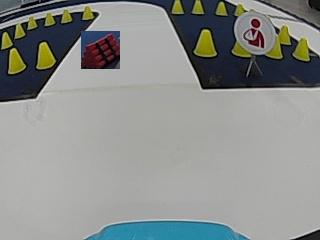cone: (193, 29, 217, 57), (36, 42, 56, 69), (8, 48, 25, 73), (292, 37, 309, 61), (266, 35, 282, 59), (279, 24, 290, 44), (1, 31, 13, 48), (171, 1, 184, 14), (81, 6, 93, 20), (15, 23, 26, 38), (192, 1, 204, 14), (215, 2, 227, 15), (61, 9, 72, 23), (27, 15, 38, 29), (44, 12, 55, 25)
patient: (236, 12, 272, 52)
